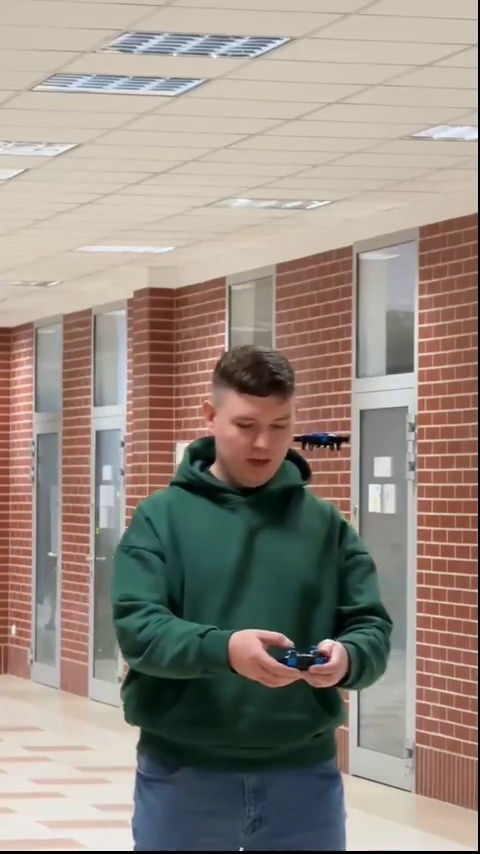drone: (297, 429, 353, 456)
no vest: (110, 342, 392, 846)
